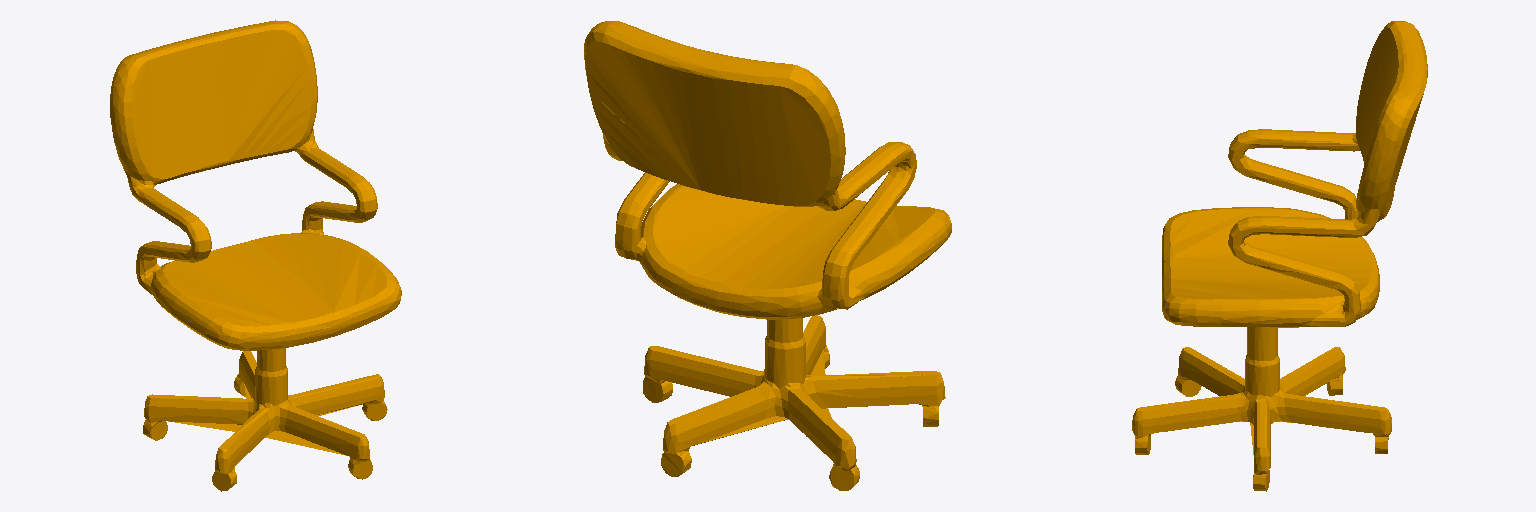
The robot description file, URDF, robot "chair_gym":
<?xml version="1.0"?>
<robot name="chair_gym">
    <link name="chair_gym_link">
        <visual>
            <origin rpy="0 0 0" xyz="0 0 0"/>
            <geometry>
                <mesh filename="./chair_gym.obj" scale="1 1 1" />
            </geometry>
        </visual>
        <collision>
            <origin rpy="0 0 0" xyz="0 0 0" scale="1 1 1" />
            <geometry>
                <mesh filename="./chair_gym.obj"/>
            </geometry>
        </collision>
         <inertial>
            <mass value="0.1" />
            <inertia ixx="0.4" ixy="0.0" ixz="0.0" iyy="0.4" iyz="0.0" izz="0.4" />
        </inertial>
    </link>
</robot>

--- Facts derived from the render (not from the file) ---
The picture shows the robot from 3 angles, left to right: view 1: azimuth 30°, elevation 25°; view 2: azimuth 150°, elevation 25°; view 3: azimuth 270°, elevation 25°; orthographic projection.
Model chair_gym with 1 links and 0 joints (none), rooted at chair_gym_link, posed every joint at zero.
Visible links, largest first — view 1: chair_gym_link; view 2: chair_gym_link; view 3: chair_gym_link.
Boxes of the visible links, left/top/right/bottom form: chair_gym_link: left=110, top=20, right=401, bottom=491; chair_gym_link: left=584, top=21, right=951, bottom=490; chair_gym_link: left=1132, top=21, right=1427, bottom=491.
Bounding box of the posed robot: 0.416 × 0.4683 × 0.6612 m (x, y, z).
Meshes: 1 distinct files referenced, 1 mesh visuals loaded (1 OBJ).